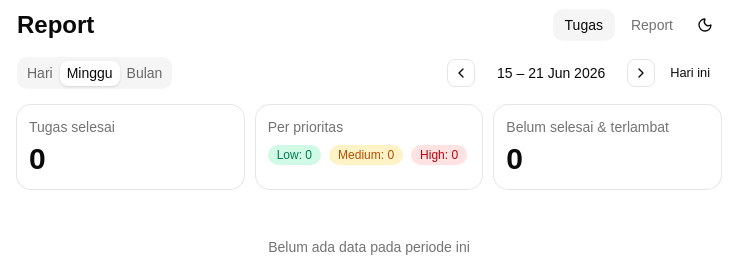
Test: ReportPage › returns to the current period with the today button
This screenshot has width=739, height=272.
Click the button named "Periode sebelumnya" at (461,73), box [447,59,475,87]
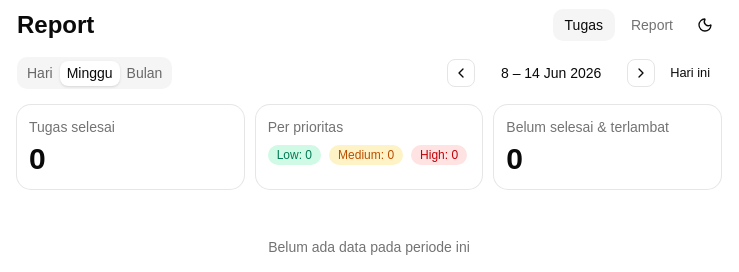
Result: the text "–" no longer shows "15 – 21 Jun 2026"
Click the button "Hari ini" at (690,73), box [659,59,721,87]
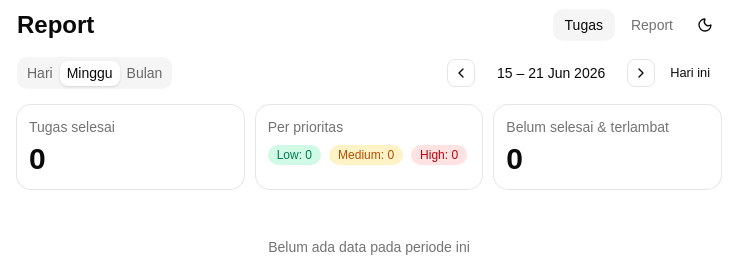
Result: the text "15 – 21 Jun 2026" is shown at [497,65,605,81]
